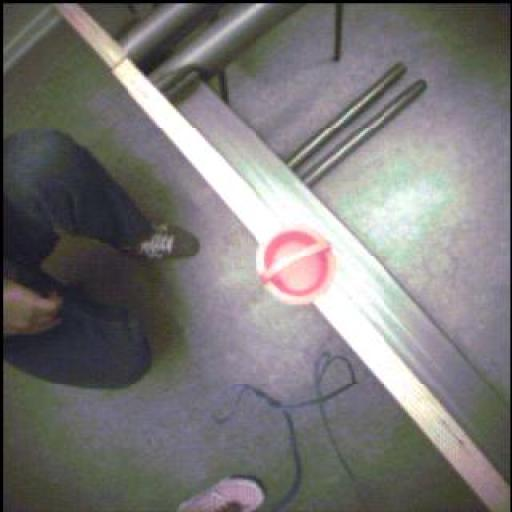Bucket: (252, 222, 341, 304)
